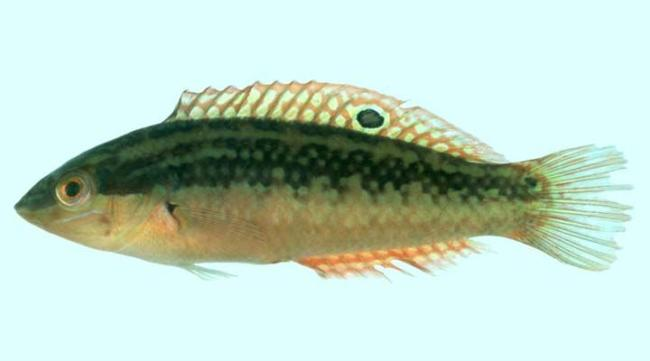fish: (14, 78, 637, 285)
